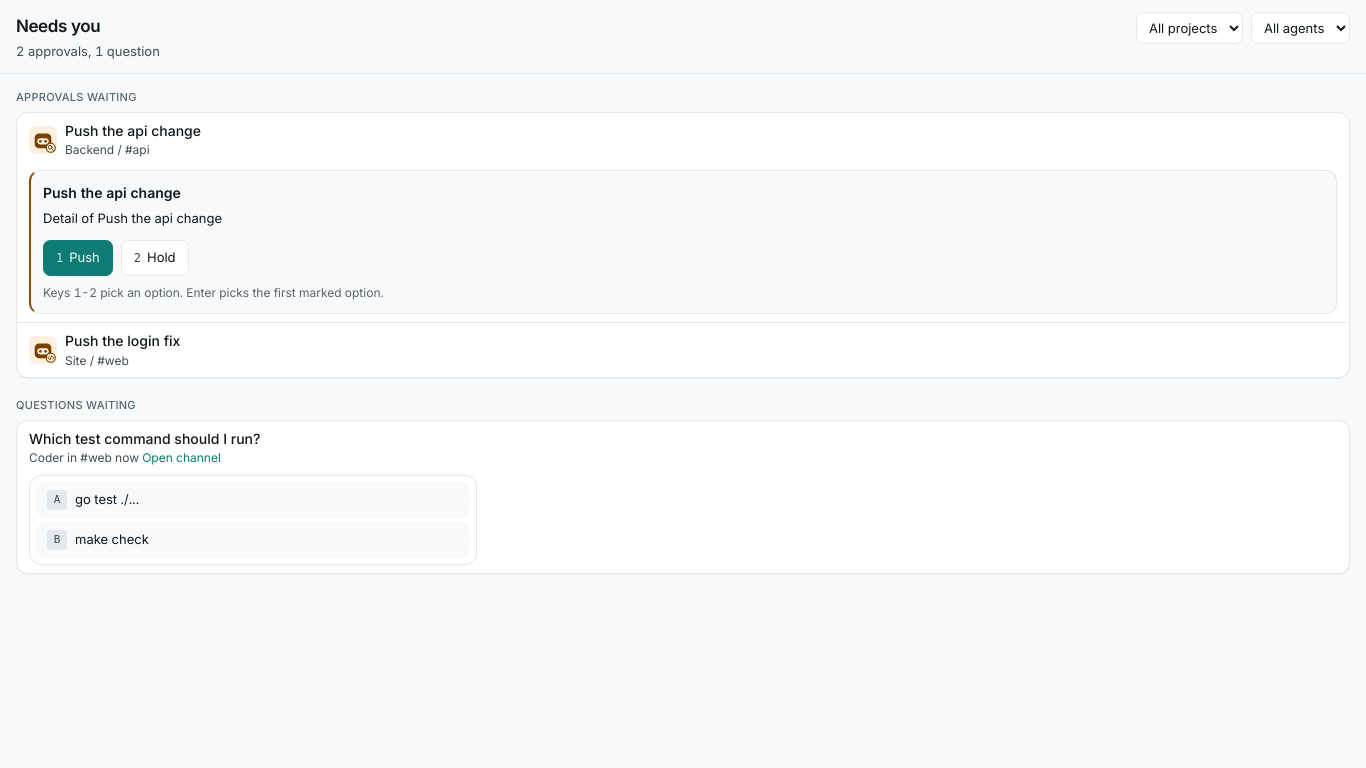
Test: ApprovalsInbox › shows a resolve refusal and leaves the approval usable
Expected: the heading "Needs you" is shown, x1=16 y1=16 x2=100 y2=36
Click the button "1Push": point(78, 258) x1=43 y1=240 x2=113 y2=276
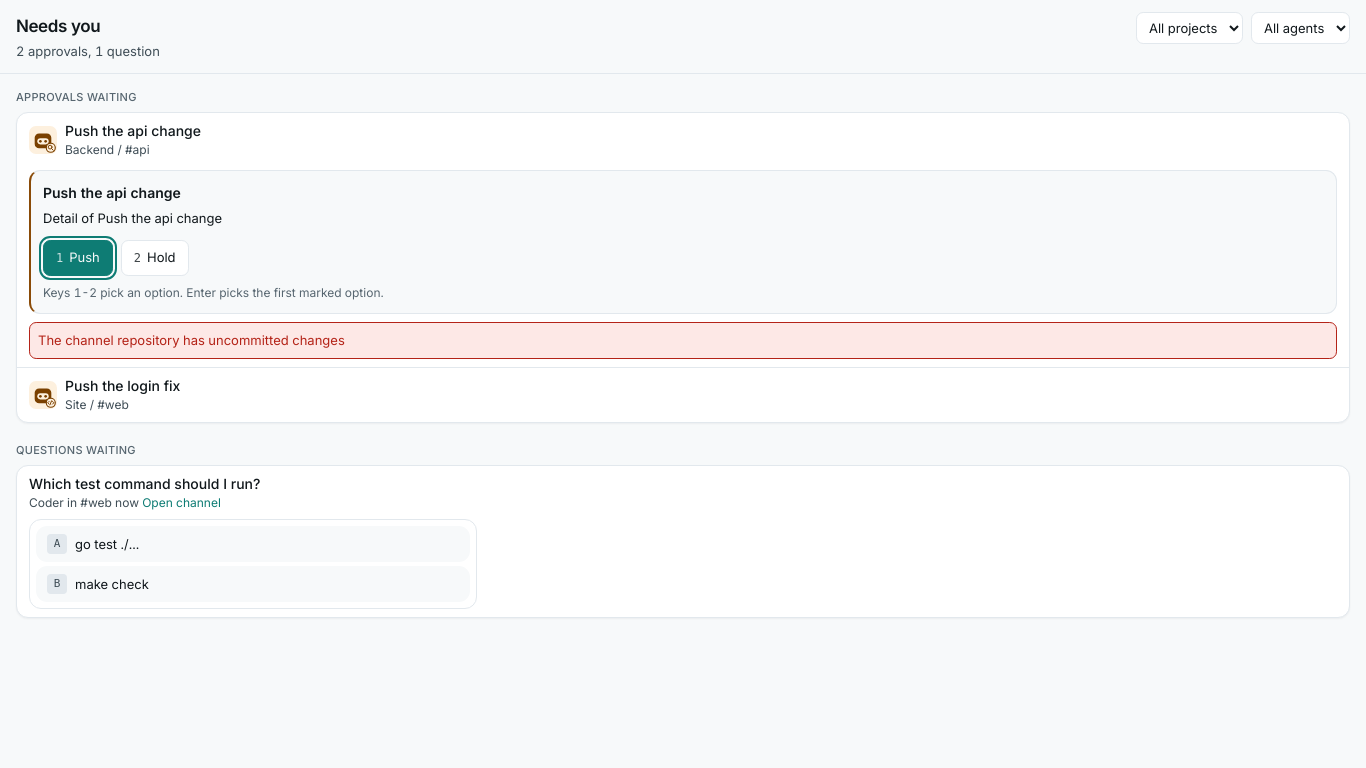
Expected: the element "Push the api change" is shown, x1=29 y1=170 x2=1337 y2=314
Now the message reads "The channel repository has uncommitted changes", box x1=38 y1=332 x2=345 y2=348
